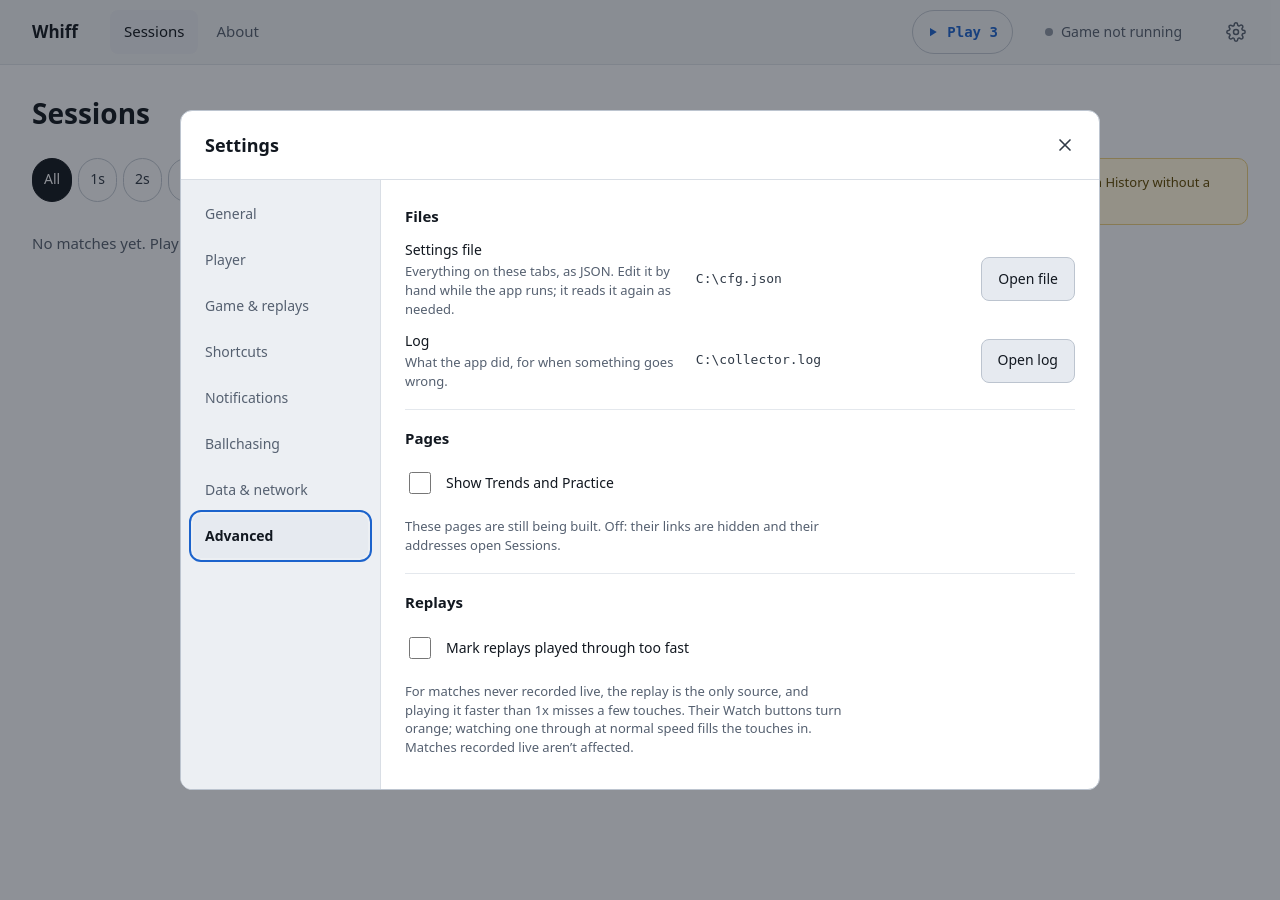
Test: Trends and Practice, unfinished › show once Settings → Advanced turns them on
Click the checkbox labelled "Show Trends and Practice": (420, 483) [409,472,431,494]
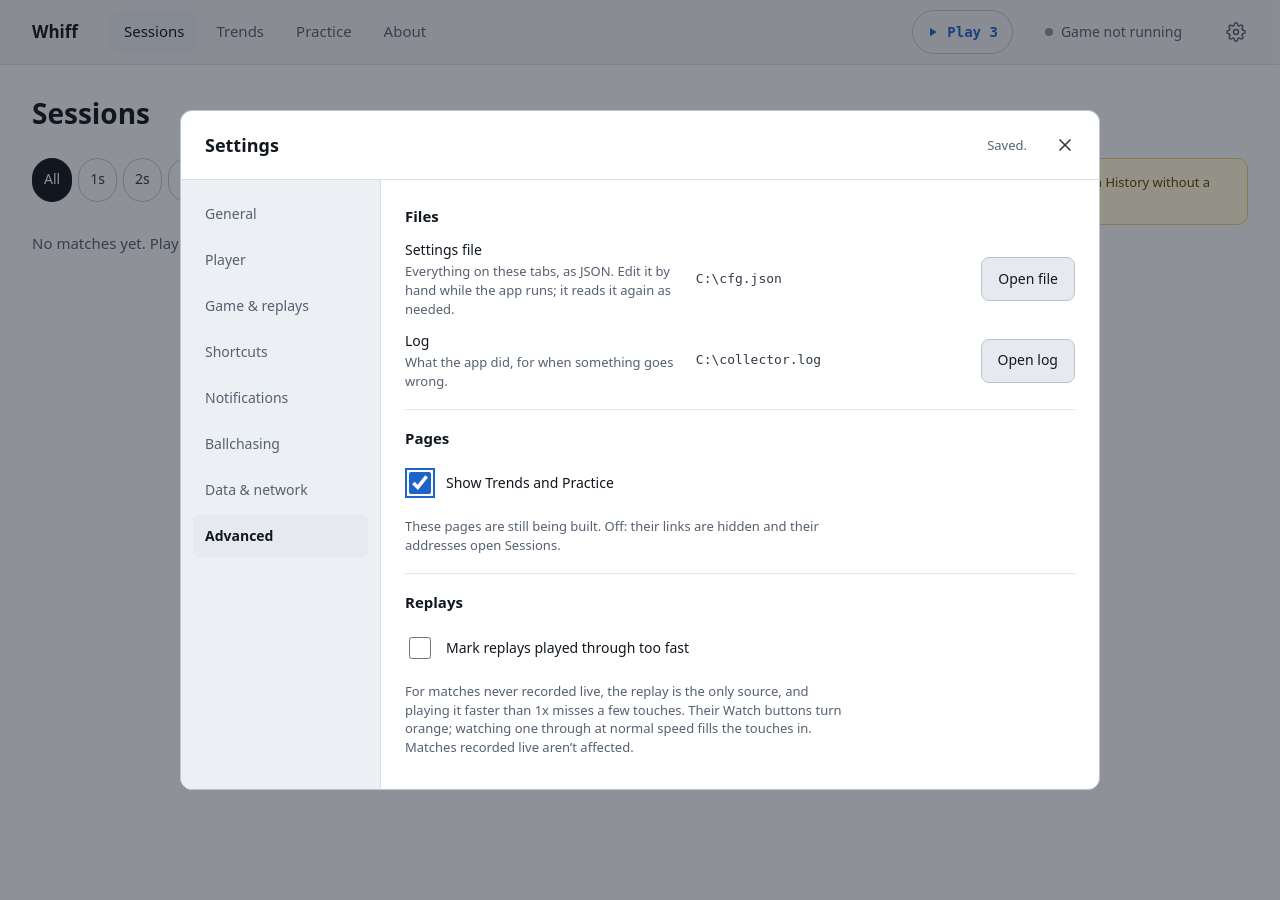
Result: the links read "Sessions", "Trends", "Practice", "About", in this order at [110,10,198,54]; [216,21,264,41]; [296,21,352,41]; [384,21,426,41]
